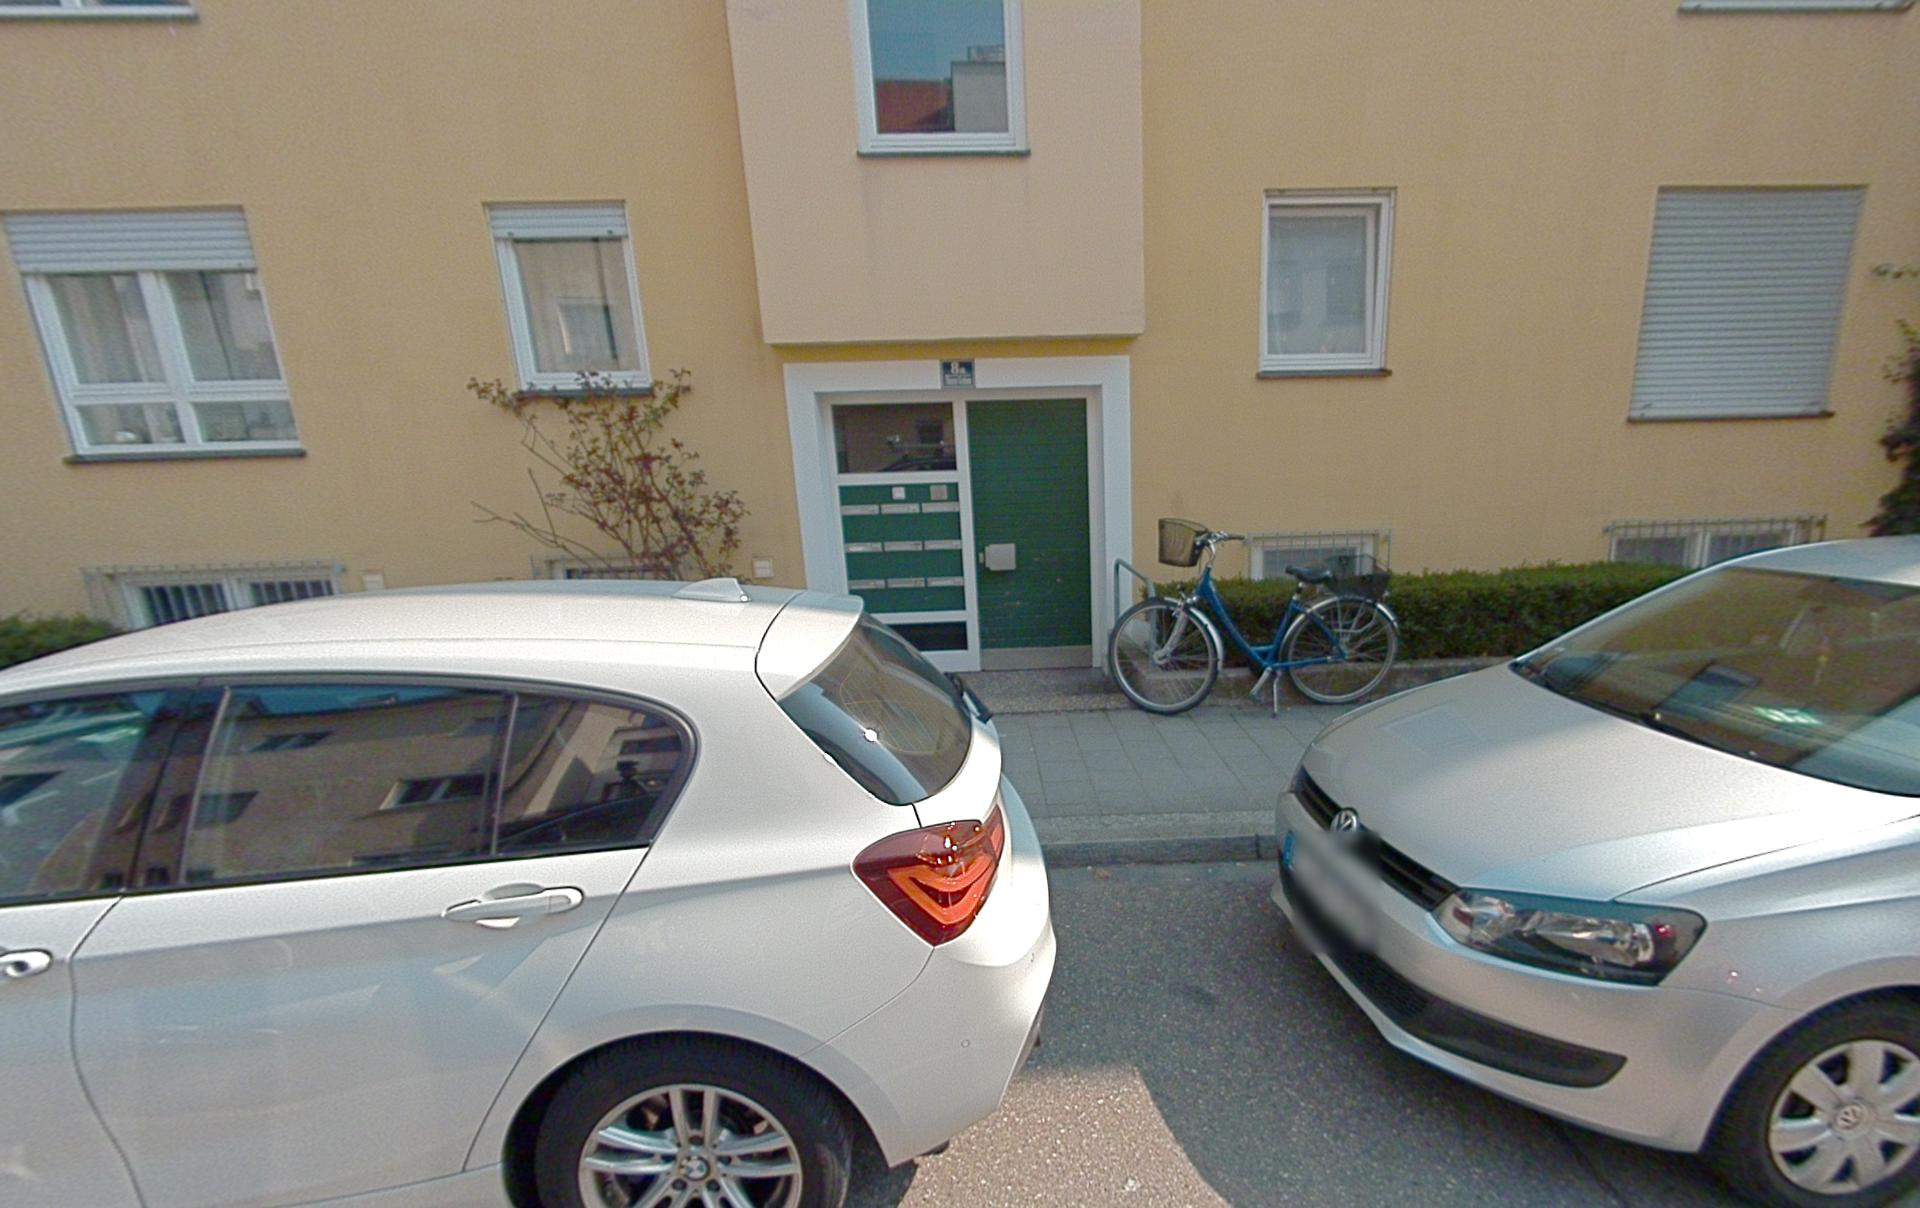car: (0, 575, 1057, 1207), (1270, 532, 1919, 1207)
